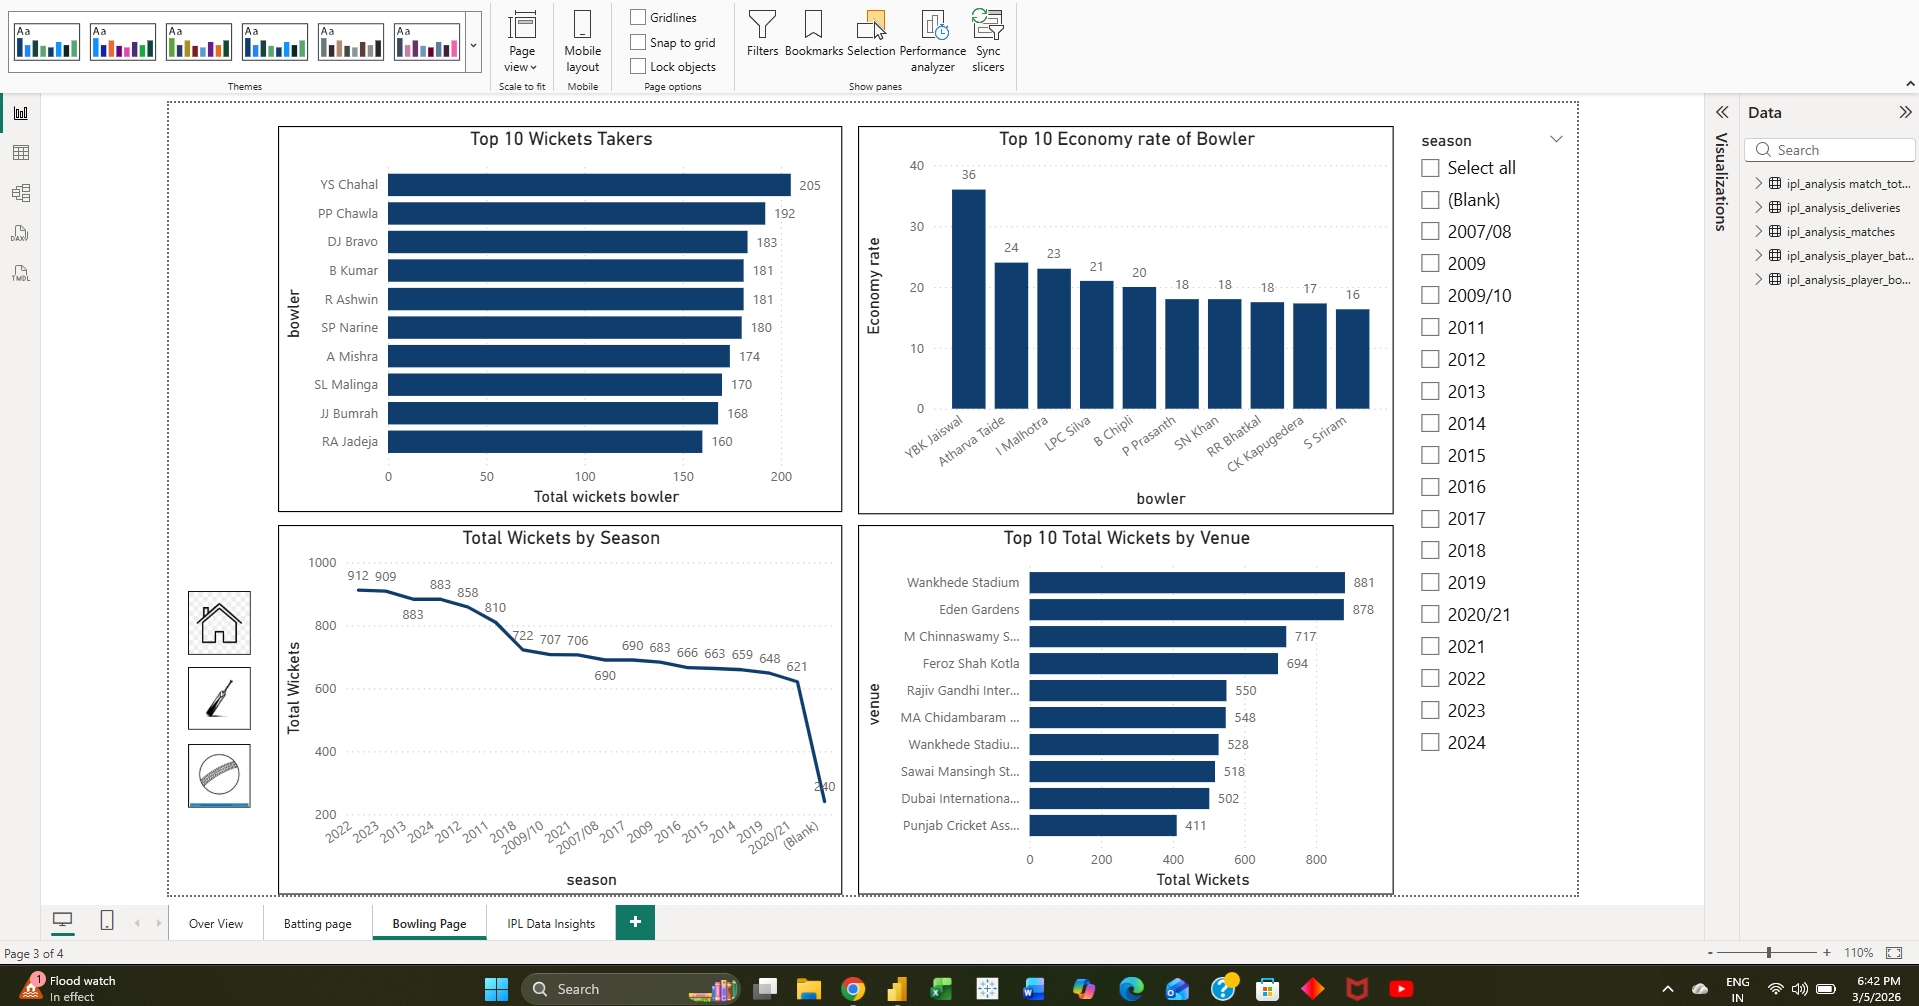

The dashboard page shown, as its layout file describes it:
{"tool":"powerbi","page":{"name":"Bowling Page","canvas":[1280,720],"ordinal":2},"visuals":[{"type":"clusteredBarChart","title":"Top 10 Wickets Takers","fields":{"Category":["ipl_analysis_player_bowling_stats.bowler"],"Y":["ipl_analysis_player_bowling_stats.Total wickets bowler"]},"box":[99,21,513,351],"z":0},{"type":"columnChart","title":"Top 10 Economy rate of Bowler","fields":{"Category":["ipl_analysis_player_bowling_stats.bowler"],"Y":["ipl_analysis_player_bowling_stats.Economy rate"]},"box":[626,21,487,353],"z":1000},{"type":"lineChart","title":"Total Wickets by Season","fields":{"Category":["ipl_analysis match_totals.season"],"Y":["ipl_analysis match_totals.Total Wickets"]},"box":[99,384,513,336],"z":2000},{"type":"barChart","title":"Top 10 Total Wickets by Venue","fields":{"Category":["ipl_analysis match_totals.venue"],"Y":["ipl_analysis match_totals.Total Wickets"]},"box":[626,384,487,336],"z":3000},{"type":"image","box":[17.2,443.6,57.5,58.4],"z":4000},{"type":"image","box":[17.2,512.6,57.5,57.5],"z":5000},{"type":"image","box":[17.2,582.5,57.5,58.4],"z":6000},{"type":"slicer","fields":{"Values":["ipl_analysis_matches.season"]},"box":[1125,21,155,699],"z":7000}]}

Visuals, with their boxes on the page's 1280x720 design canvas (x1, y1, x2, y2). These are canvas units, not pixel positions in the 1919x1006 screenshot, which may show the page scaled, cropped or inside an application window:
"Top 10 Wickets Takers" clusteredBarChart: 99, 21, 612, 372
"Top 10 Economy rate of Bowler" columnChart: 626, 21, 1113, 374
"Total Wickets by Season" lineChart: 99, 384, 612, 720
"Top 10 Total Wickets by Venue" barChart: 626, 384, 1113, 720
image: 17, 444, 75, 502
image: 17, 513, 75, 570
image: 17, 582, 75, 641
slicer - ipl_analysis_matches.season: 1125, 21, 1280, 720
